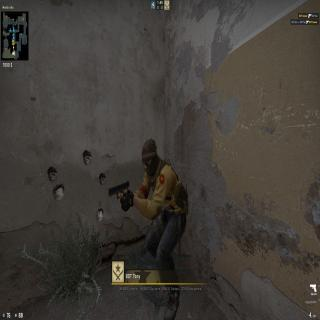T-Head: (141, 138, 159, 177)
